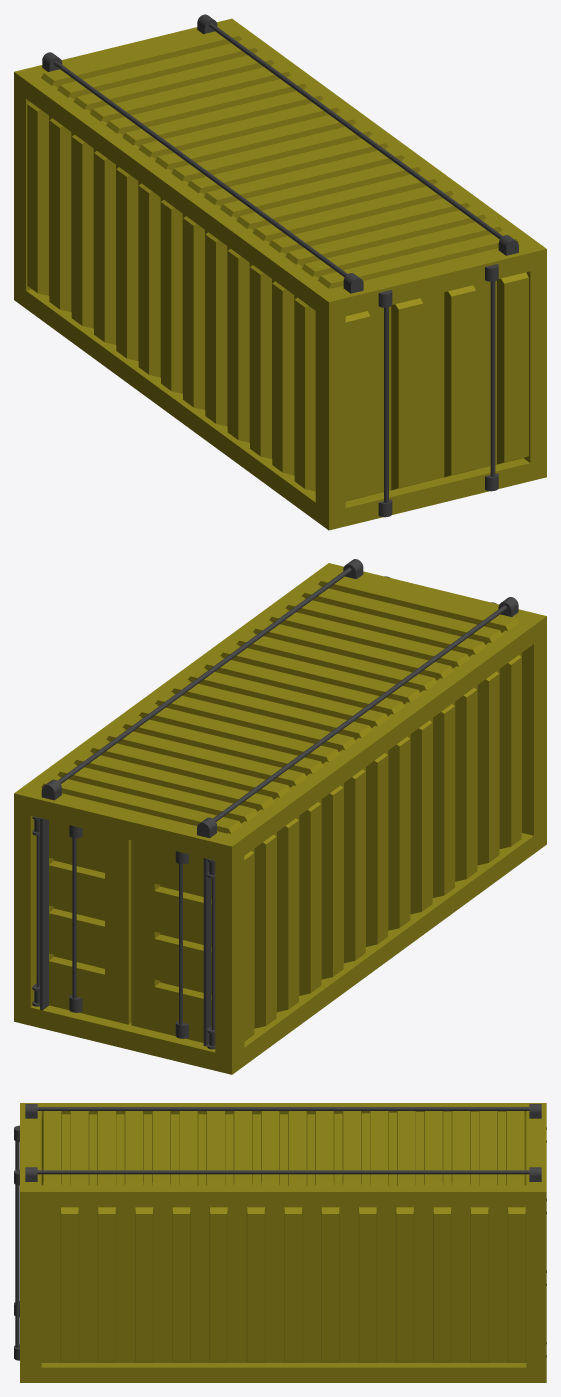
The model's file is ContainerKuning.obj.
3 renders of one model, top to bottom at view 1: azimuth 30°, elevation 25°; view 2: azimuth 150°, elevation 25°; view 3: azimuth 270°, elevation 25°, orthographic. The views are drawn at different scales.
Parts seen in each view (by area): view 1: CountainerKuning; view 2: CountainerKuning; view 3: CountainerKuning.
Boxes of the visible parts, x1,y1,x2,y2 form: CountainerKuning: (14, 14, 546, 530); CountainerKuning: (14, 559, 546, 1074); CountainerKuning: (14, 1103, 546, 1382).
Bounding box in the file's own units: 6.04 × 6.4 × 15.28.
